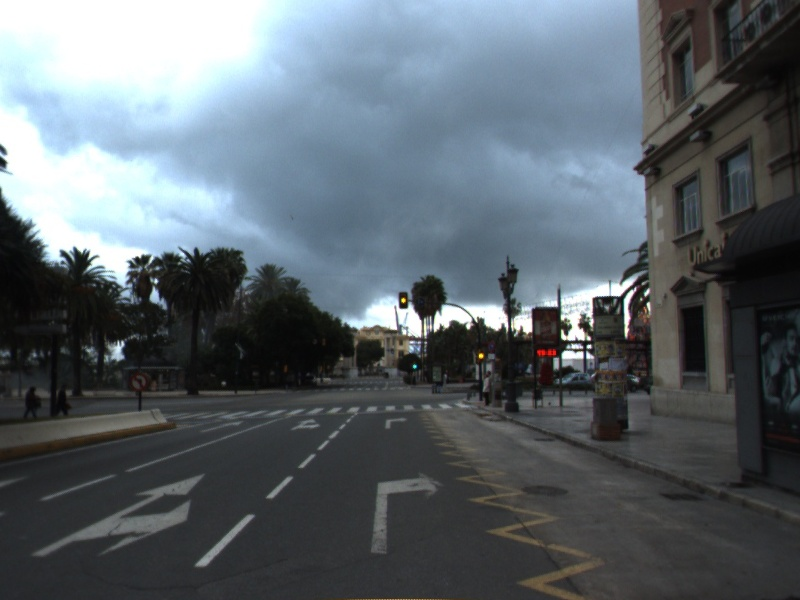RIGHT: (367, 468, 449, 557), (383, 415, 410, 431)
STRAIGHT: (197, 419, 247, 435)
STRAIGHT_RIGHT: (27, 469, 209, 561), (288, 416, 322, 432)
